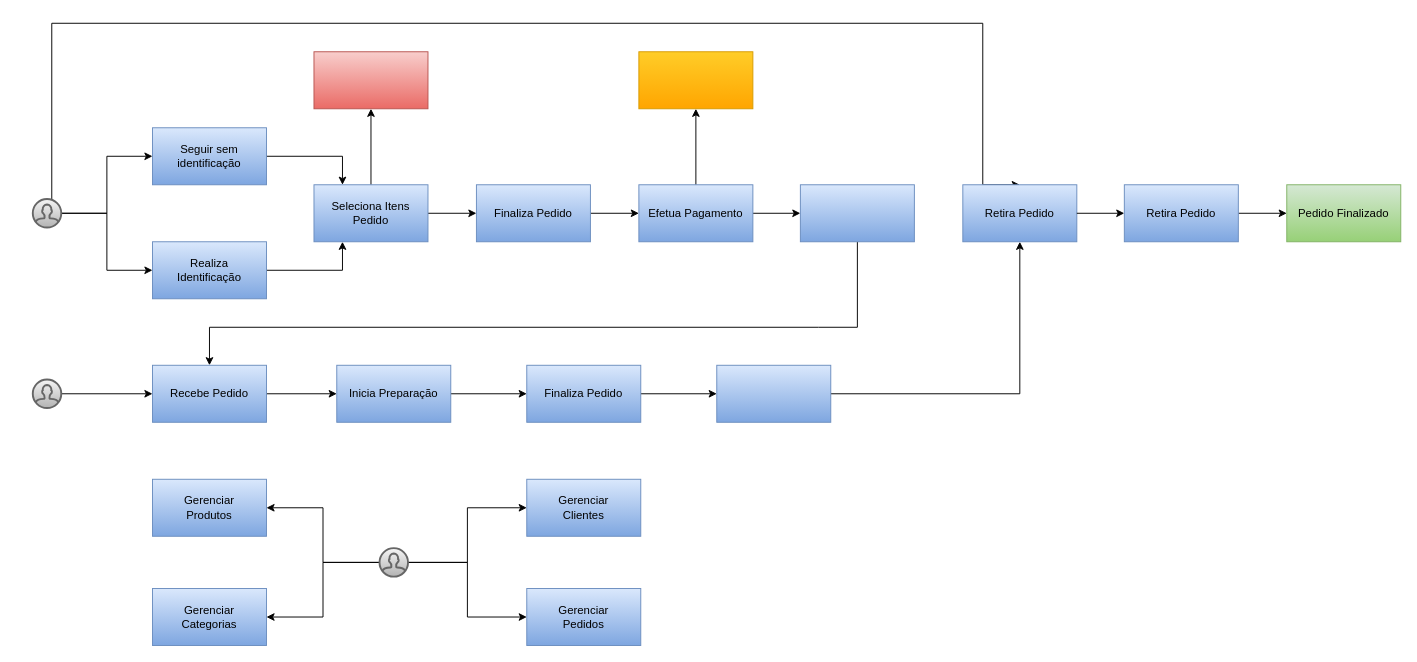
Some shapes in this 1417 by 662 pixel diagram are drawn without their labels. The shapes that lost their labels are listed below. From the top down, each one's box as (x1, y1, x2, y2) in pixels, then its label:
(313, 51, 428, 109): Cancela Pedido
(638, 51, 753, 109): Integração Mercado Pago QR Code
(31, 198, 62, 228): Consumidor
(799, 184, 914, 242): Pedido Confirmado
(31, 378, 62, 408): Cozinheiro
(716, 364, 831, 422): Notifica Cliente
(378, 547, 408, 577): Funcionário Adm
